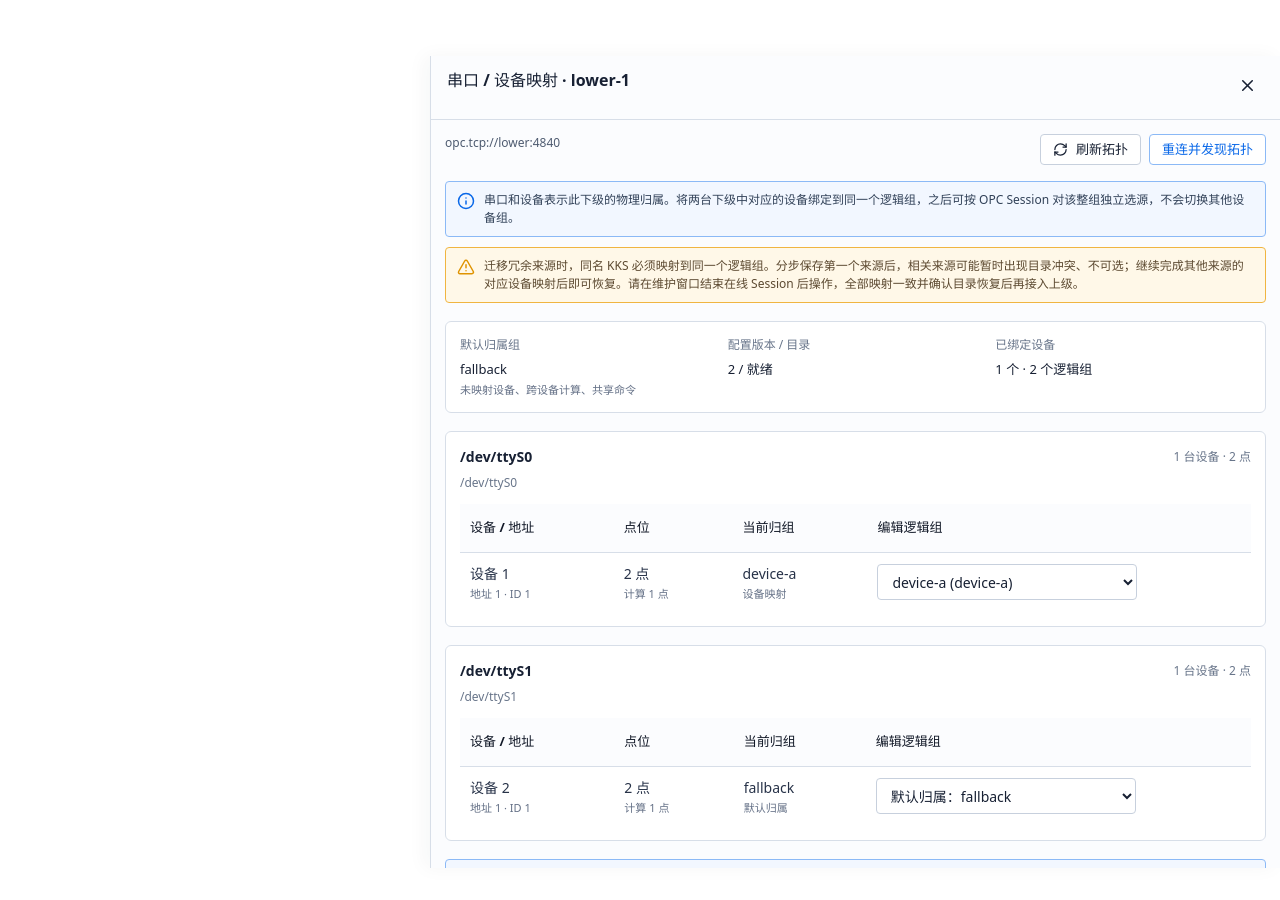
Test: SourceTopologyDrawer › keeps the draft and explains HTTP 409 when a session starts during the save
Select "device-b (device-b)" in the dropdown named "/dev/ttyS1 设备 1 逻辑组" at [1006, 796], box 876,778 -> 1136,814
(page scrolled)
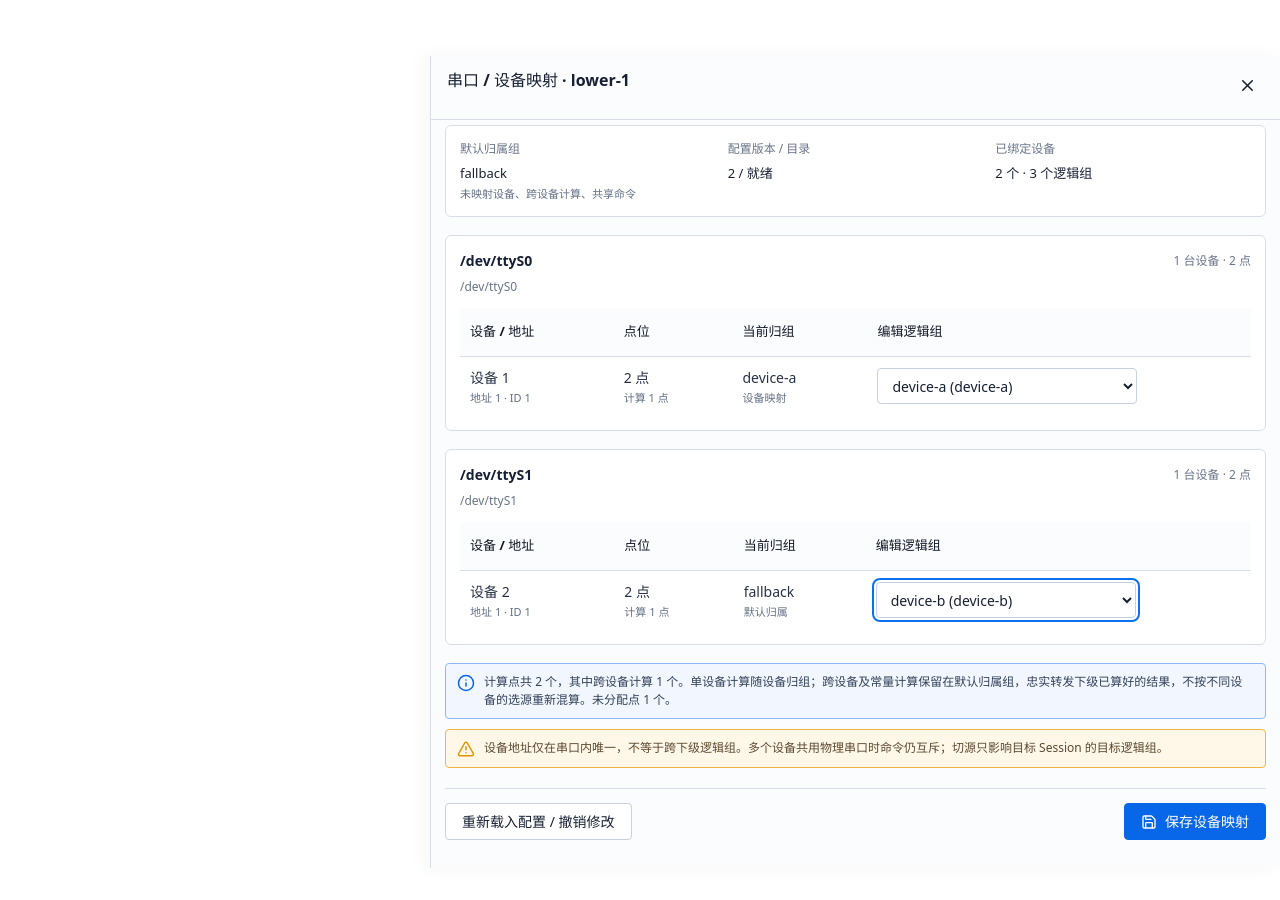
Click the button "保存设备映射" at [1195, 822], box 1124,803 -> 1266,840
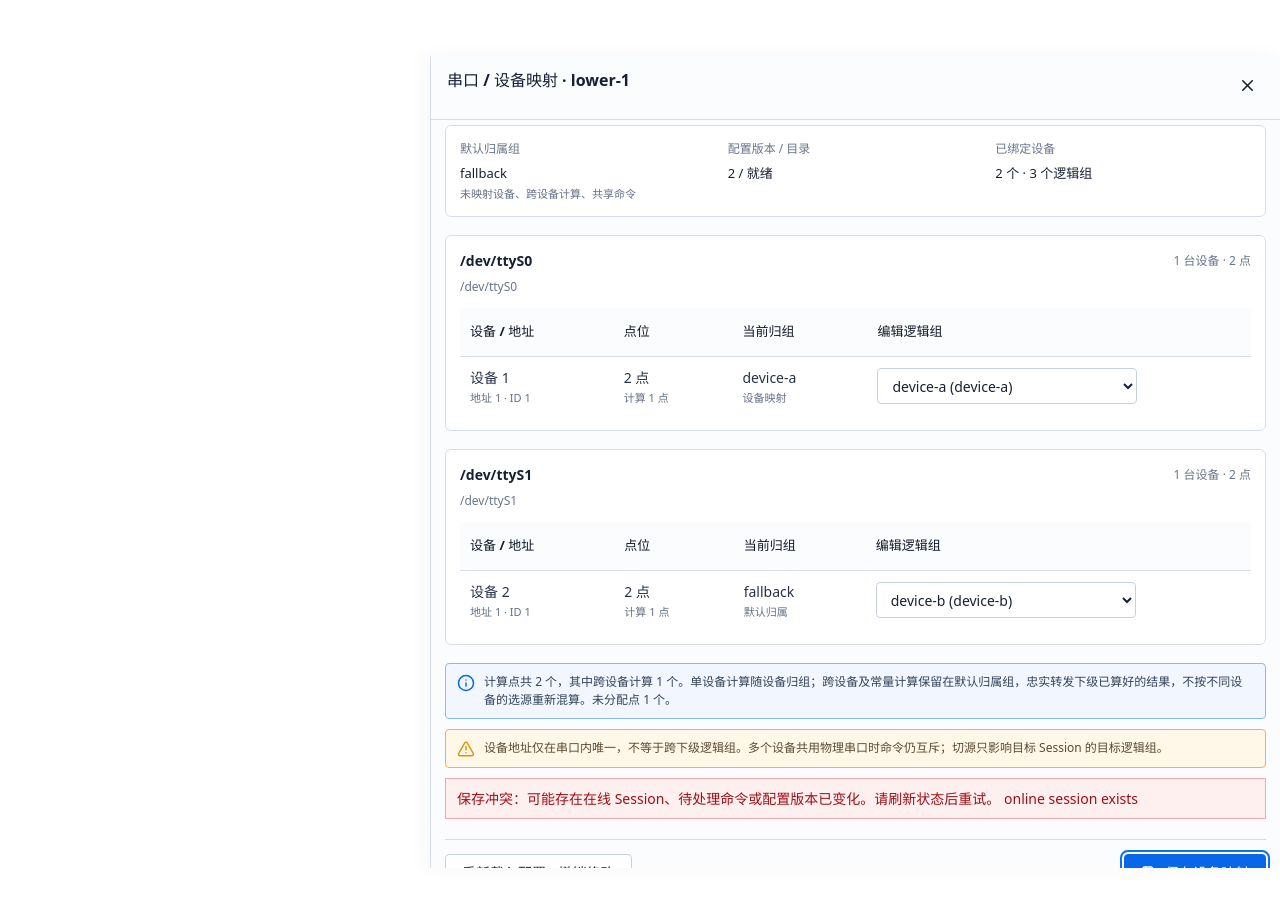
Expected: the text "保存冲突：可能存在在线 Session、待处理命令或配置版本已变化。请刷新状态后重试。 online session exists" is shown, 445,778 -> 1266,819
